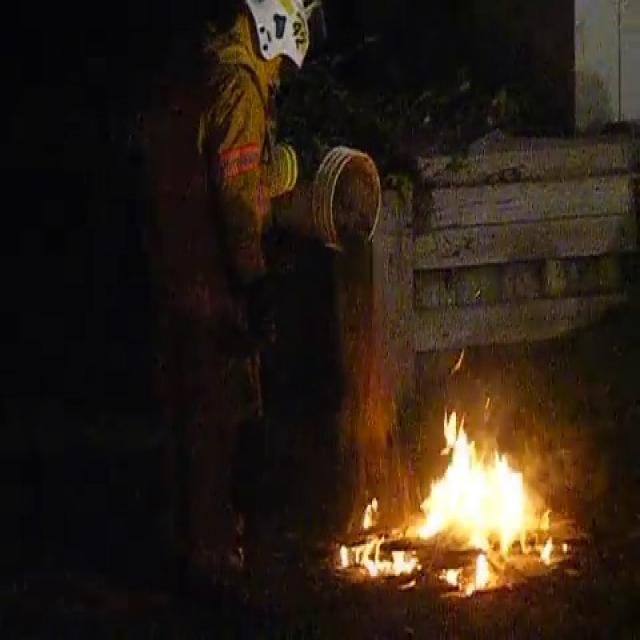Fire: (338, 392, 562, 590)
